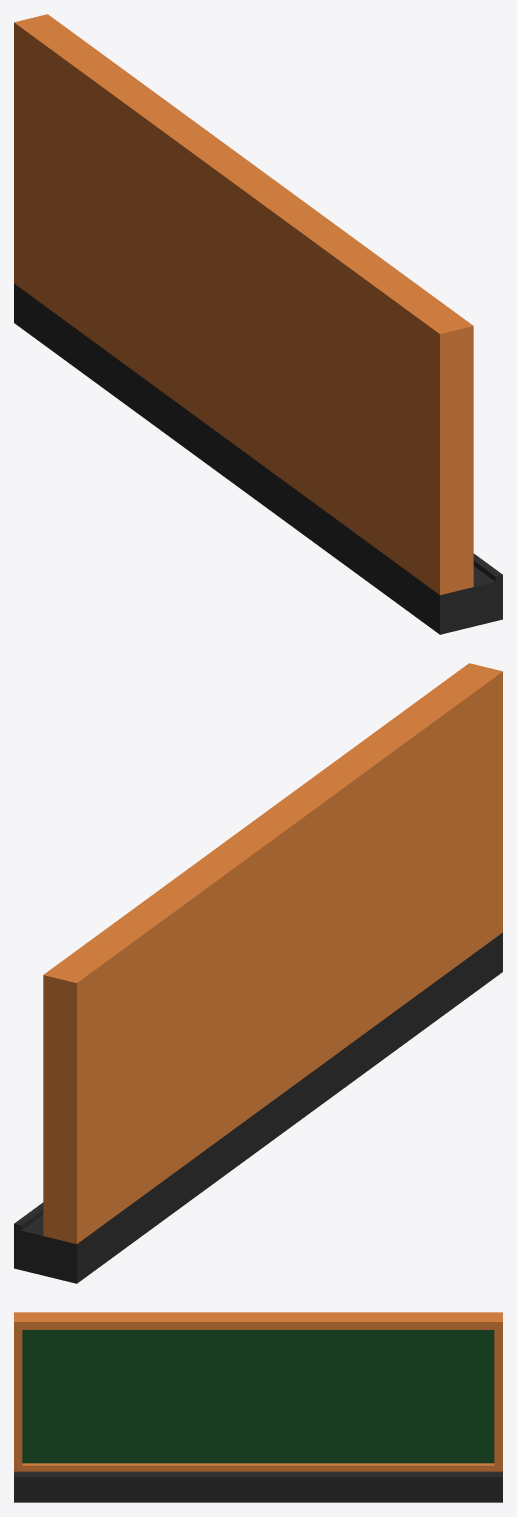
File: blackboard (1).fbx
The picture shows the model from 3 angles, top to bottom: view 1: azimuth 30°, elevation 25°; view 2: azimuth 150°, elevation 25°; view 3: azimuth 270°, elevation 25°; orthographic projection. The views are drawn at different scales.
Parts seen in each view (by area): view 1: Cube.001; view 2: Cube.001; view 3: Cube.001.
Boxes of the visible parts, x1=… form: Cube.001: x1=14, y1=14, x2=502, y2=634; Cube.001: x1=14, y1=663, x2=502, y2=1283; Cube.001: x1=14, y1=1312, x2=502, y2=1502.
Size of the model in its own units: 514 by 200 by 43.81.
